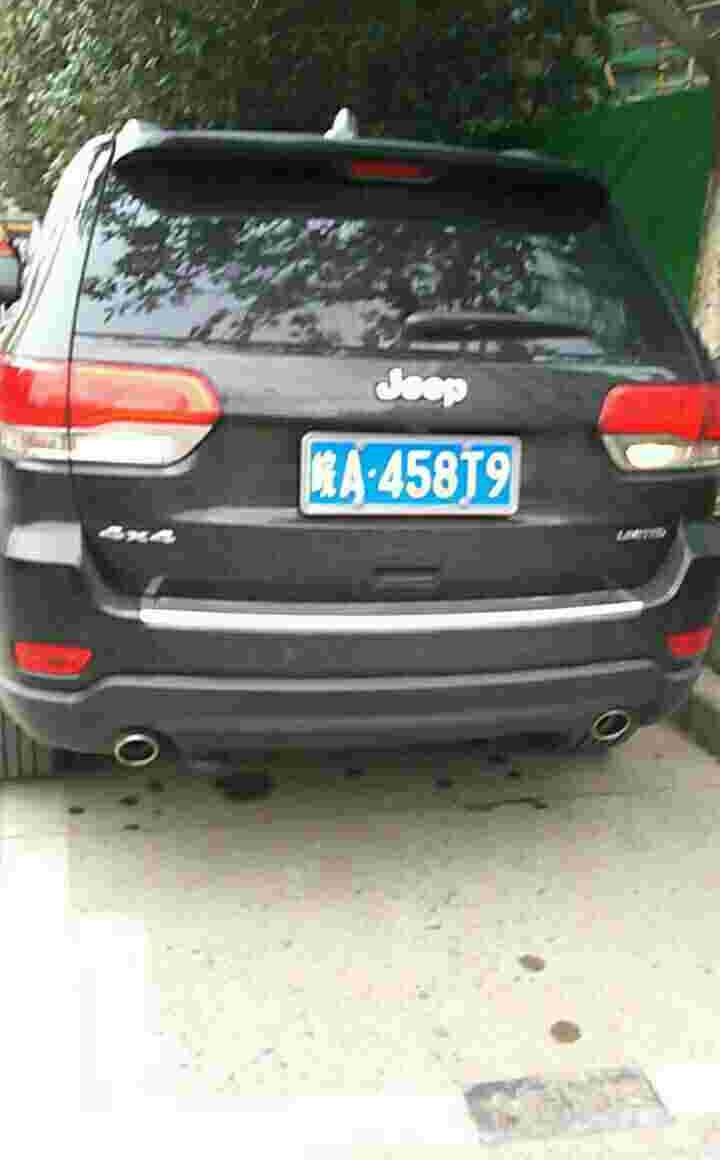license_plate: (299, 432, 527, 514)
